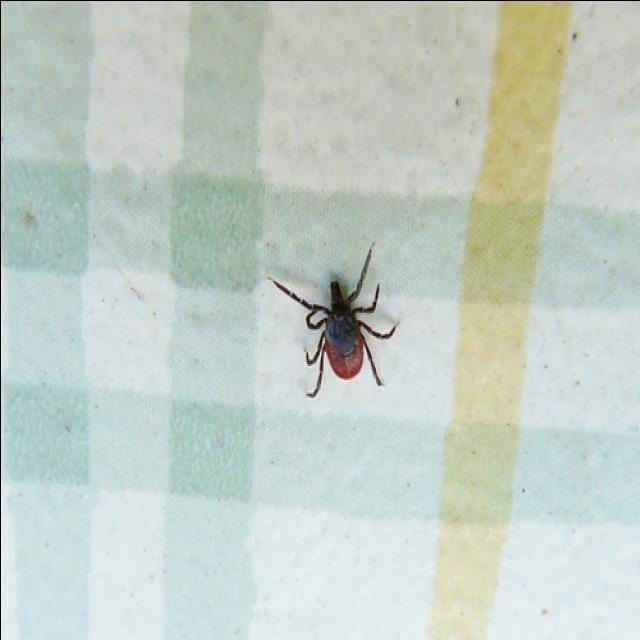Ixodes Ricinus-F: (268, 250, 396, 395)
